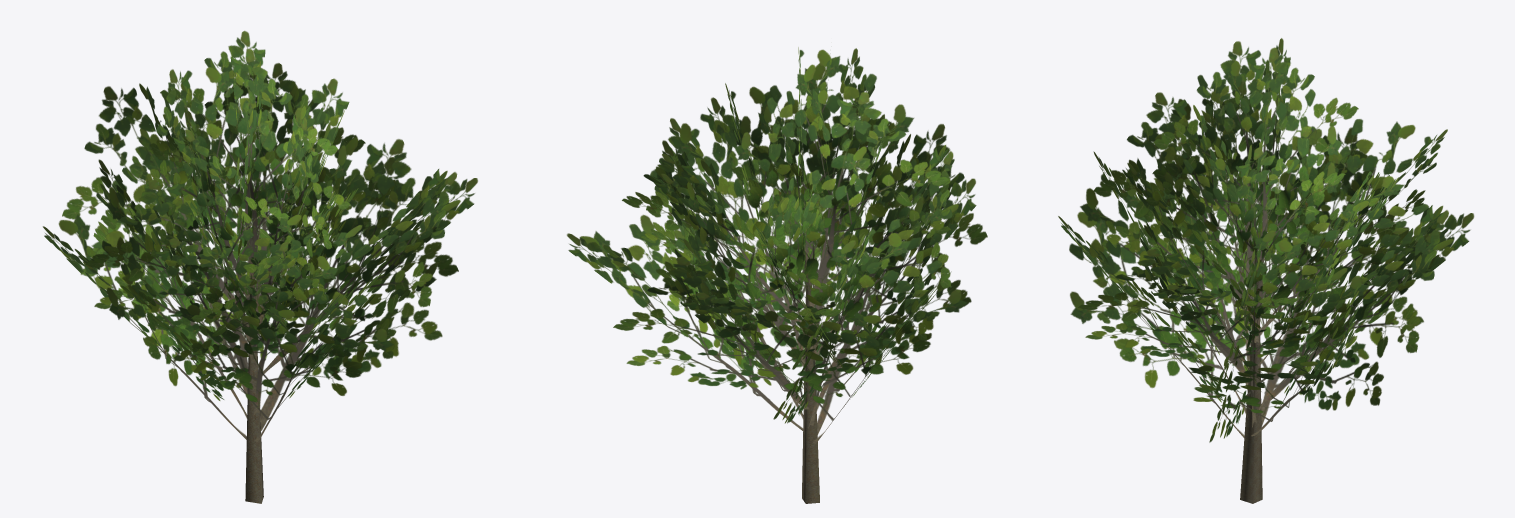
The picture shows the model from 3 angles, left to right: view 1: azimuth 30°, elevation 25°; view 2: azimuth 150°, elevation 25°; view 3: azimuth 270°, elevation 25°; orthographic projection.
Parts seen in each view (by area): view 1: um_t1_pl009_model_t1_pl009_modelShape; view 2: um_t1_pl009_model_t1_pl009_modelShape; view 3: um_t1_pl009_model_t1_pl009_modelShape.
Part boxes in pixels (x1,y1,x2,y2): um_t1_pl009_model_t1_pl009_modelShape: (42,30,477,503); um_t1_pl009_model_t1_pl009_modelShape: (567,47,987,503); um_t1_pl009_model_t1_pl009_modelShape: (1058,38,1474,503).
Size of the model in its own units: 2.23 by 2.59 by 2.31.
2 materials, 2 textured.
